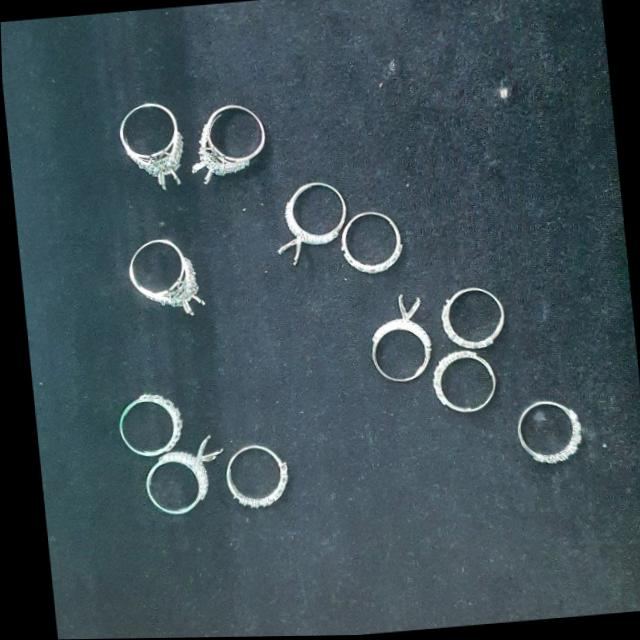Ring: (180, 91, 272, 188), (268, 168, 352, 268), (136, 430, 229, 520), (121, 232, 211, 324), (113, 99, 190, 198), (360, 291, 434, 392), (432, 273, 511, 357), (421, 343, 501, 423), (215, 438, 292, 520), (105, 386, 189, 460), (509, 397, 586, 476), (336, 203, 405, 283)
